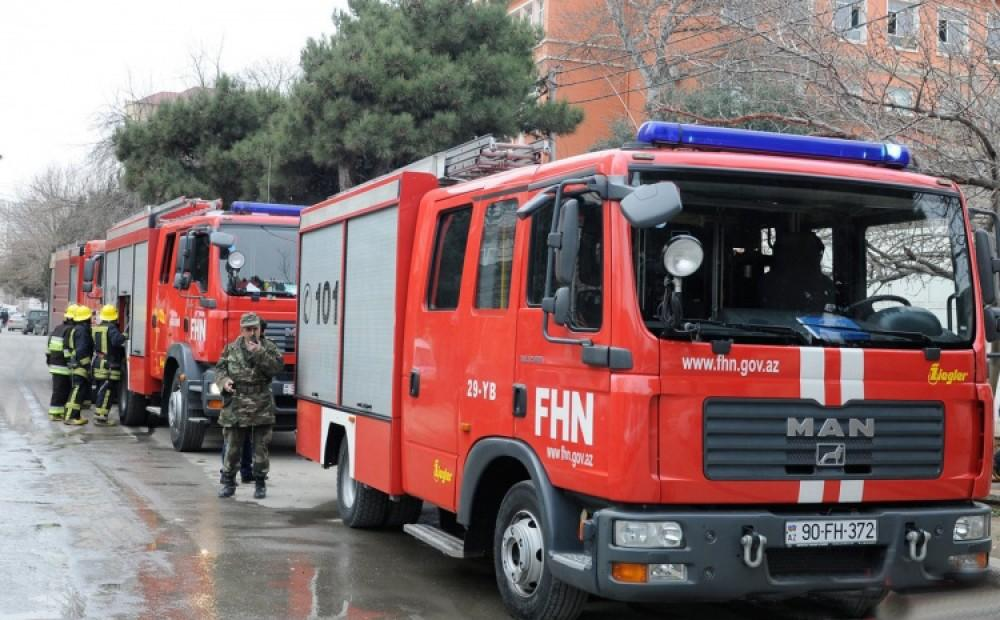Fire-engine: (303, 202, 998, 587), (88, 205, 298, 437)
